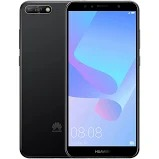huawei: (63, 1, 140, 159), (16, 1, 64, 159)
